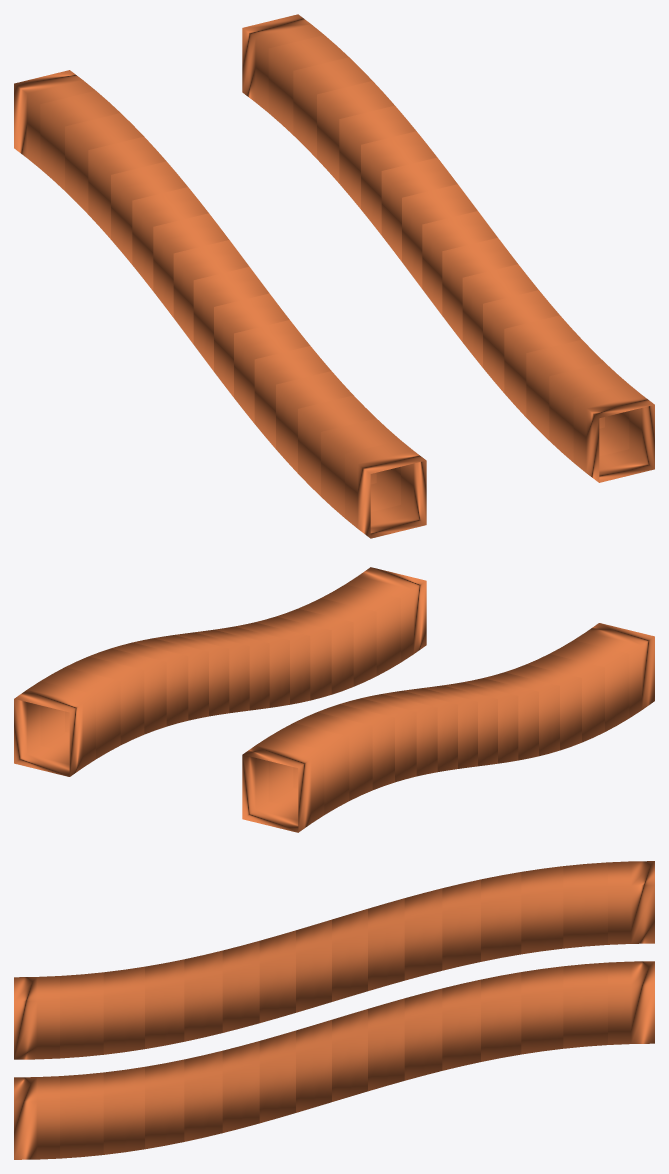
File: RampSand.fbx
3 renders of one model, top to bottom at view 1: azimuth 30°, elevation 25°; view 2: azimuth 150°, elevation 25°; view 3: azimuth 270°, elevation 25°, orthographic. The views are drawn at different scales.
Visible parts, largest first — view 1: sand.001, sand.032, sand.002, sand.031, sand.017, sand.015, sand.016, sand.003, sand.018, sand.014, sand.019, sand.030 (+20 smaller); view 2: sand.017, sand.016, sand.018, sand.015, sand.001, sand.032, sand.002, sand.031, sand.014, sand.019, sand.003, sand.030 (+20 smaller); view 3: sand.016, sand.017, sand.001, sand.032, sand.018, sand.015, sand.002, sand.031, sand.019, sand.014, sand.030, sand.003 (+20 smaller).
Boxes of the visible parts, x1,y1,x2,y2 form: sand.001: (573,384,654,482); sand.032: (345,440,426,538); sand.002: (549,363,629,462); sand.031: (321,418,400,517); sand.017: (14,70,95,168); sand.015: (268,35,348,134); sand.016: (242,14,323,112); sand.003: (526,339,604,440); sand.018: (40,90,120,190); sand.014: (293,57,372,158); sand.019: (65,113,143,214); sand.030: (298,395,376,496); sand.017: (242,737,324,832); sand.016: (14,681,95,776); sand.018: (268,723,349,814); sand.015: (40,667,120,758); sand.001: (345,567,426,662); sand.032: (574,623,654,717); sand.002: (321,584,400,675); sand.031: (549,640,629,731); sand.014: (65,656,144,744); sand.019: (293,712,372,800); sand.003: (298,598,376,686); sand.030: (526,654,604,742); sand.016: (608,961,654,1044); sand.017: (608,861,654,944); sand.001: (14,1076,59,1159); sand.032: (14,976,59,1059); sand.018: (563,862,607,948); sand.015: (563,962,607,1048); sand.002: (60,1072,103,1158); sand.031: (60,972,103,1058); sand.019: (521,866,563,954); sand.014: (521,966,563,1054); sand.030: (103,966,144,1054); sand.003: (103,1067,144,1154).
Bounding box in the file's own units: 920 × 600 × 2000.
